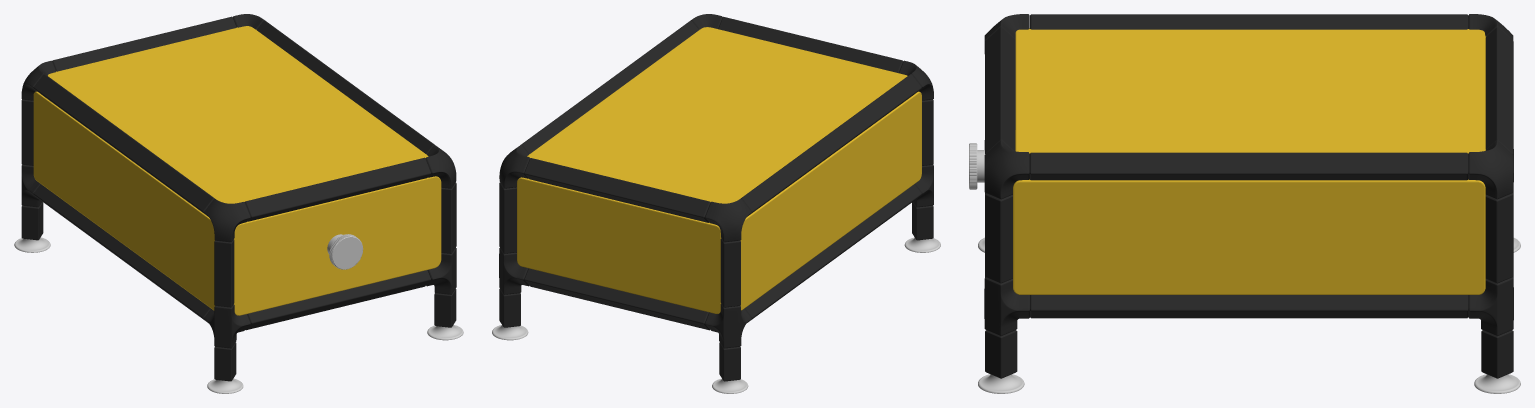
3 renders of one model, left to right at view 1: azimuth 30°, elevation 25°; view 2: azimuth 150°, elevation 25°; view 3: azimuth 270°, elevation 25°, orthographic. The views are drawn at different scales.
Parts seen in each view (by area): view 1: 229x374x79; view 2: 229x374x79; view 3: 229x374x79.
Boxes of the visible parts, left/top/right/bottom form: 229x374x79: left=14, top=14, right=463, bottom=393; 229x374x79: left=492, top=14, right=940, bottom=393; 229x374x79: left=969, top=14, right=1520, bottom=393.
Bounding box in the file's own units: 0.3189 × 0.2183 × 0.4707.
